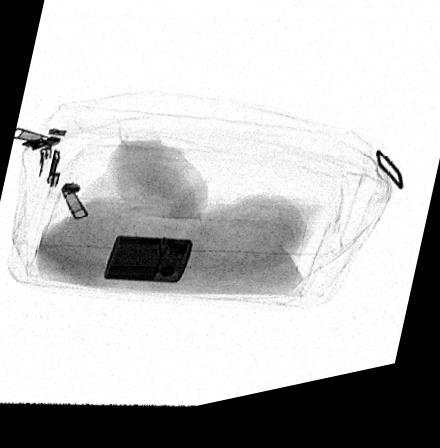Lighter: (101, 241, 194, 292)
